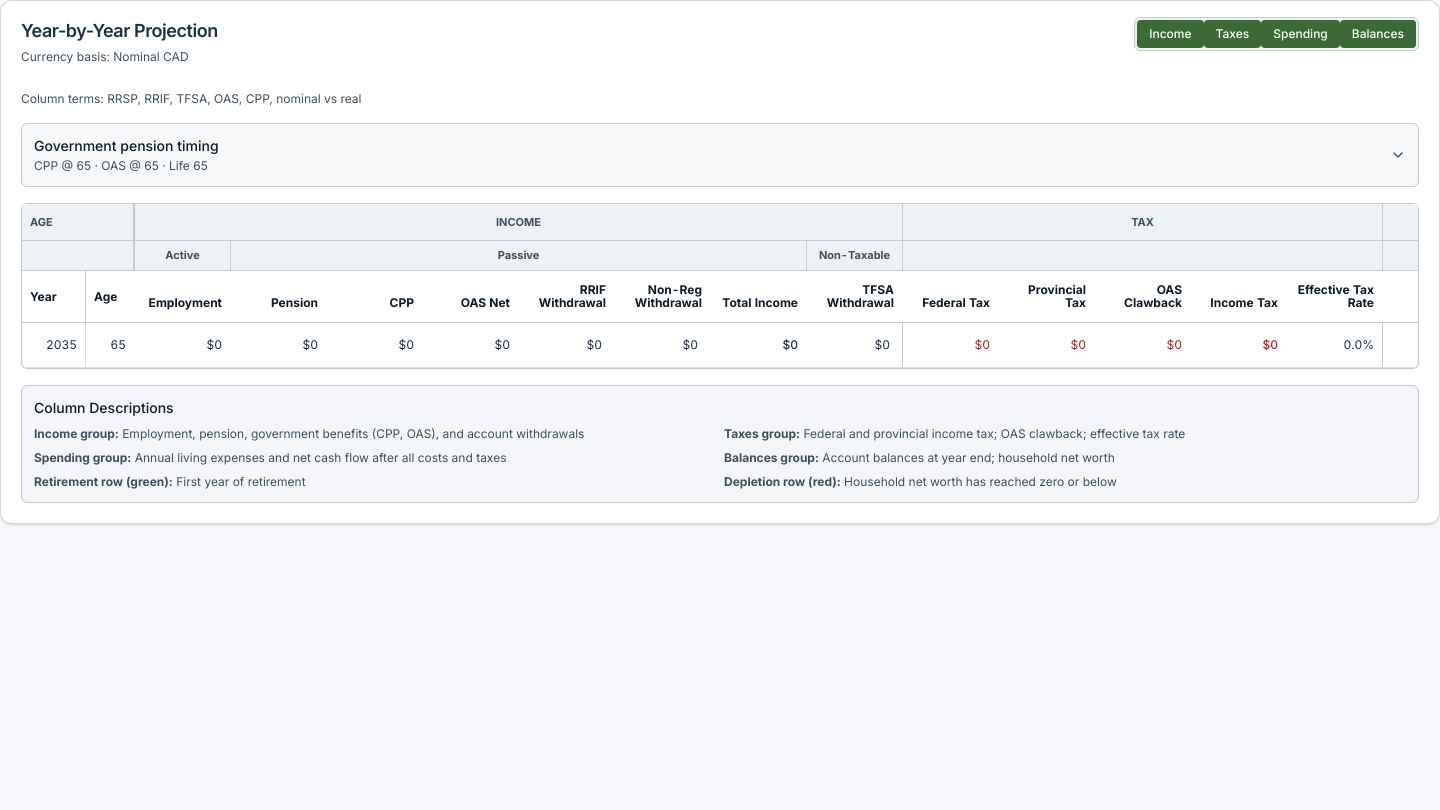
YearByYearTab government pension timing support › compares timing presets and renders ranked preview rows
Click the button "Government pension timing CPP @ 65 · OAS @ 65 · Life 65" at (126,146), box [22, 124, 1418, 186]
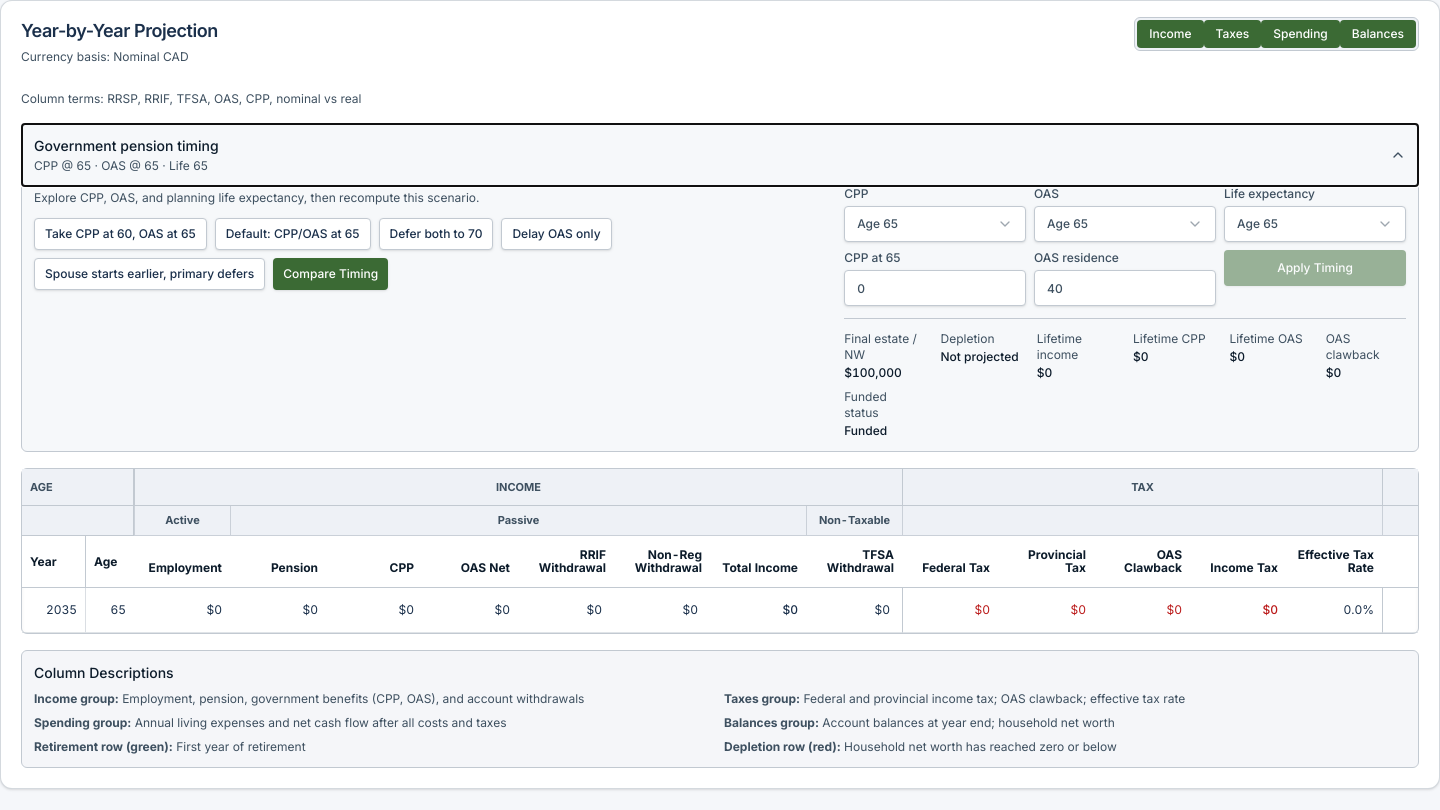
Click the button "Compare Timing" at (331,274), box [273, 258, 388, 290]
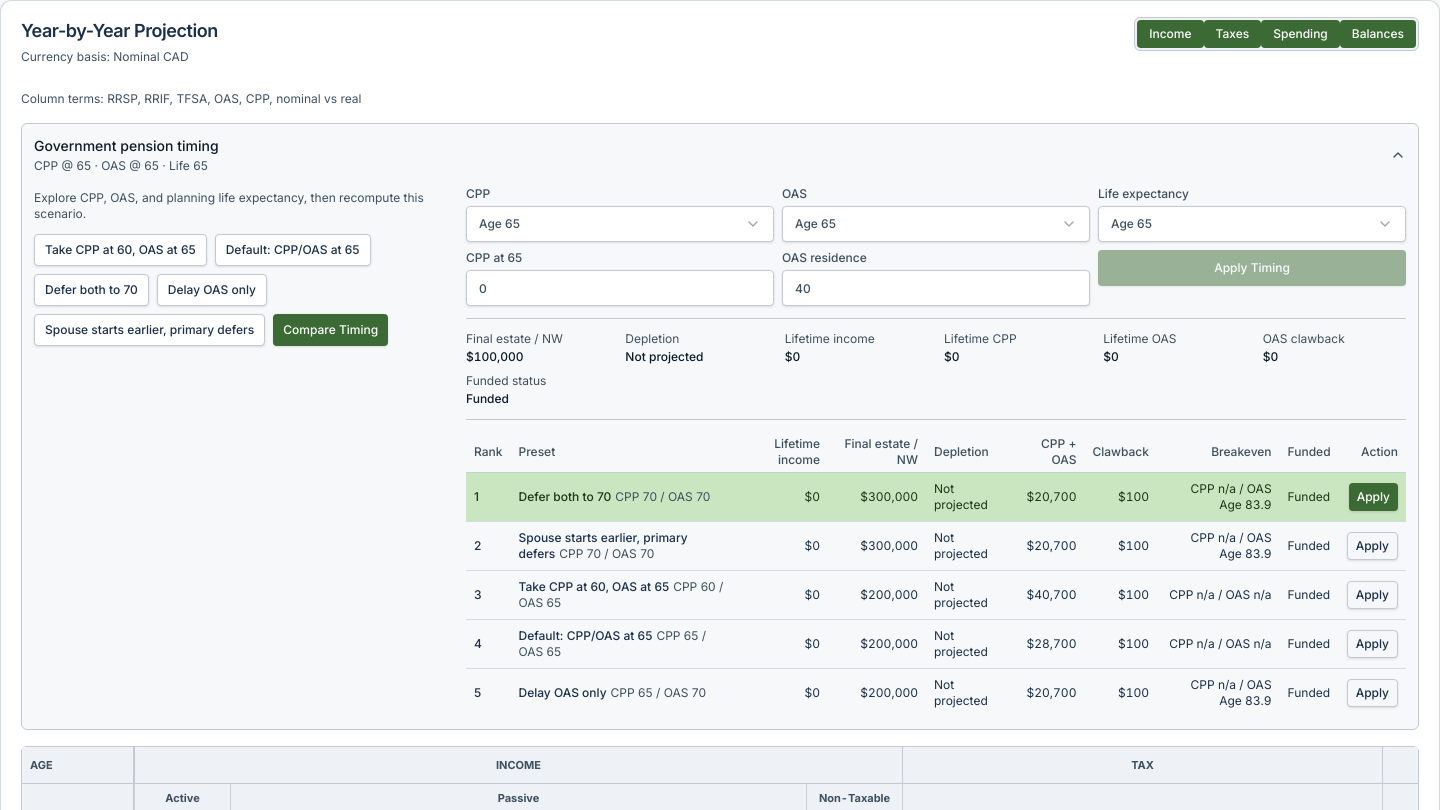
Expected: the text "Defer both to 70" is shown, [518, 489, 611, 504]
Expected: the text "1" is shown, [466, 472, 510, 521]
Expected: the 1st text "$300,000" is shown, [828, 472, 926, 521]
